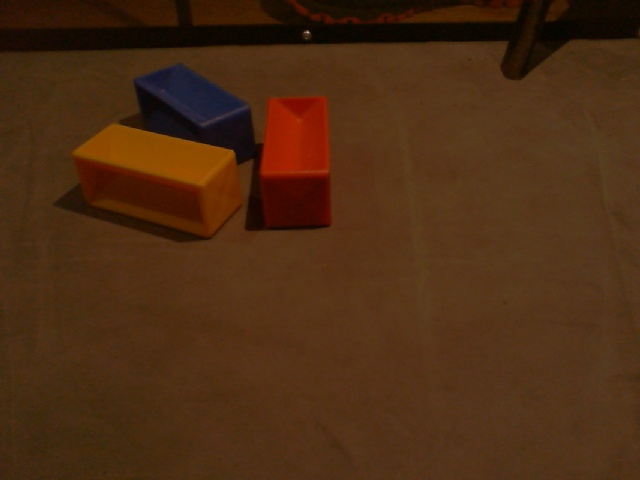BlueSample: (129, 62, 257, 167)
RedSample: (259, 94, 332, 229)
YellowSample: (70, 118, 245, 242)
